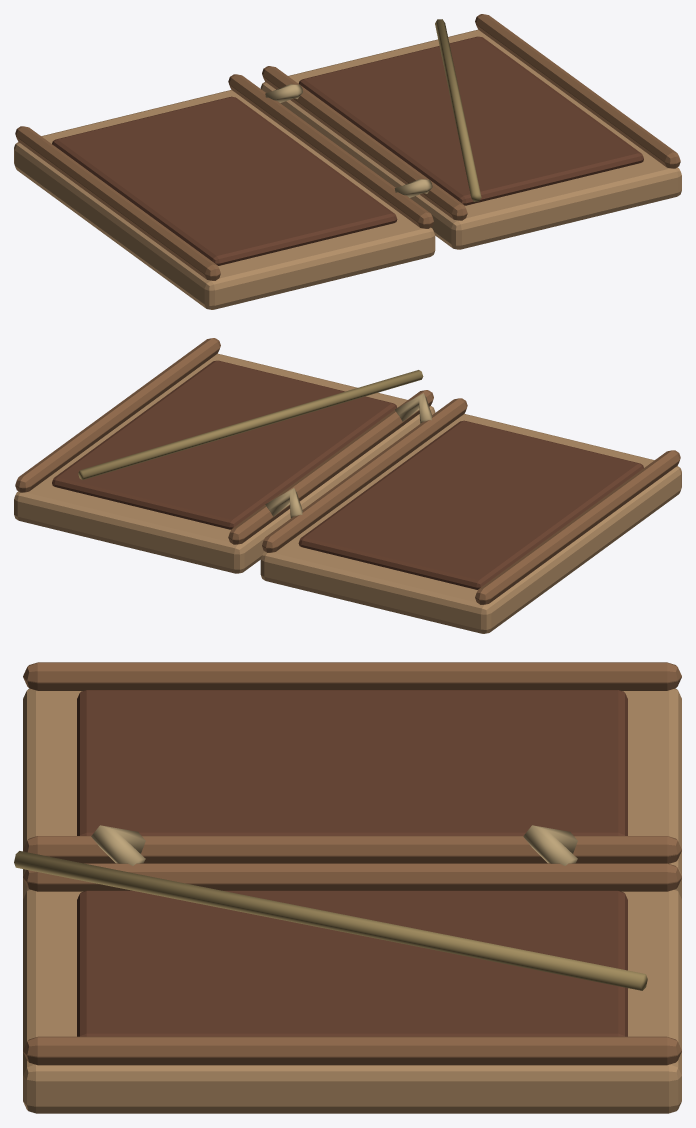
The model's file is wax-diptych.glb.
3 views of the same model, one above another, from view 1: azimuth 30°, elevation 25°; view 2: azimuth 150°, elevation 25°; view 3: azimuth 270°, elevation 25° (orthographic). The views are drawn at different scales.
Visible parts, largest first — view 1: wax-diptych__slip, wax-diptych__woodlight, wax-diptych__wood, wax-diptych__bronze, wax-diptych__rope; view 2: wax-diptych__slip, wax-diptych__woodlight, wax-diptych__wood, wax-diptych__bronze, wax-diptych__rope; view 3: wax-diptych__slip, wax-diptych__wood, wax-diptych__woodlight, wax-diptych__bronze, wax-diptych__rope.
Part boxes in pixels (x1,y1,x2,y2): wax-diptych__slip: [52, 36, 643, 265]; wax-diptych__woodlight: [14, 29, 681, 309]; wax-diptych__wood: [15, 14, 680, 280]; wax-diptych__bronze: [435, 19, 481, 201]; wax-diptych__rope: [265, 84, 432, 197]; wax-diptych__slip: [52, 360, 643, 589]; wax-diptych__woodlight: [14, 353, 681, 633]; wax-diptych__wood: [15, 338, 680, 604]; wax-diptych__bronze: [78, 370, 423, 480]; wax-diptych__rope: [265, 393, 432, 518]; wax-diptych__slip: [77, 690, 627, 1036]; wax-diptych__wood: [23, 662, 681, 1065]; wax-diptych__woodlight: [23, 688, 681, 1113]; wax-diptych__bronze: [14, 851, 647, 990]; wax-diptych__rope: [91, 825, 577, 865].
Size of the model in its own units: 0.85 by 0.1014 by 0.6184.
